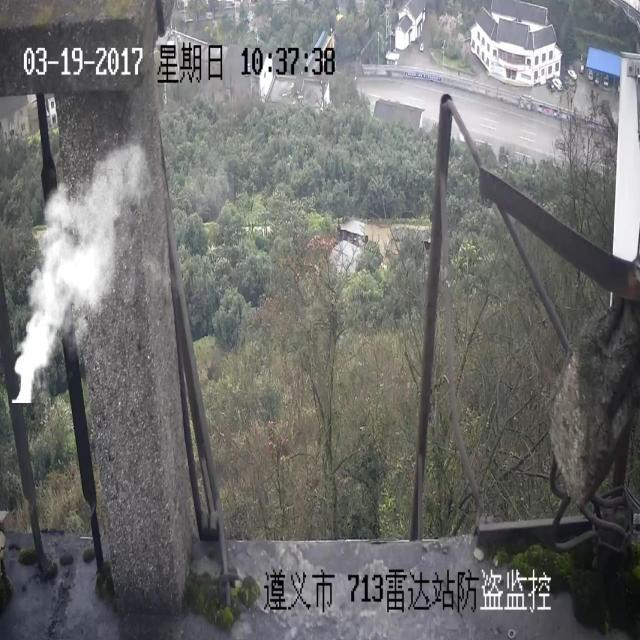Smoke: (7, 127, 158, 410)
